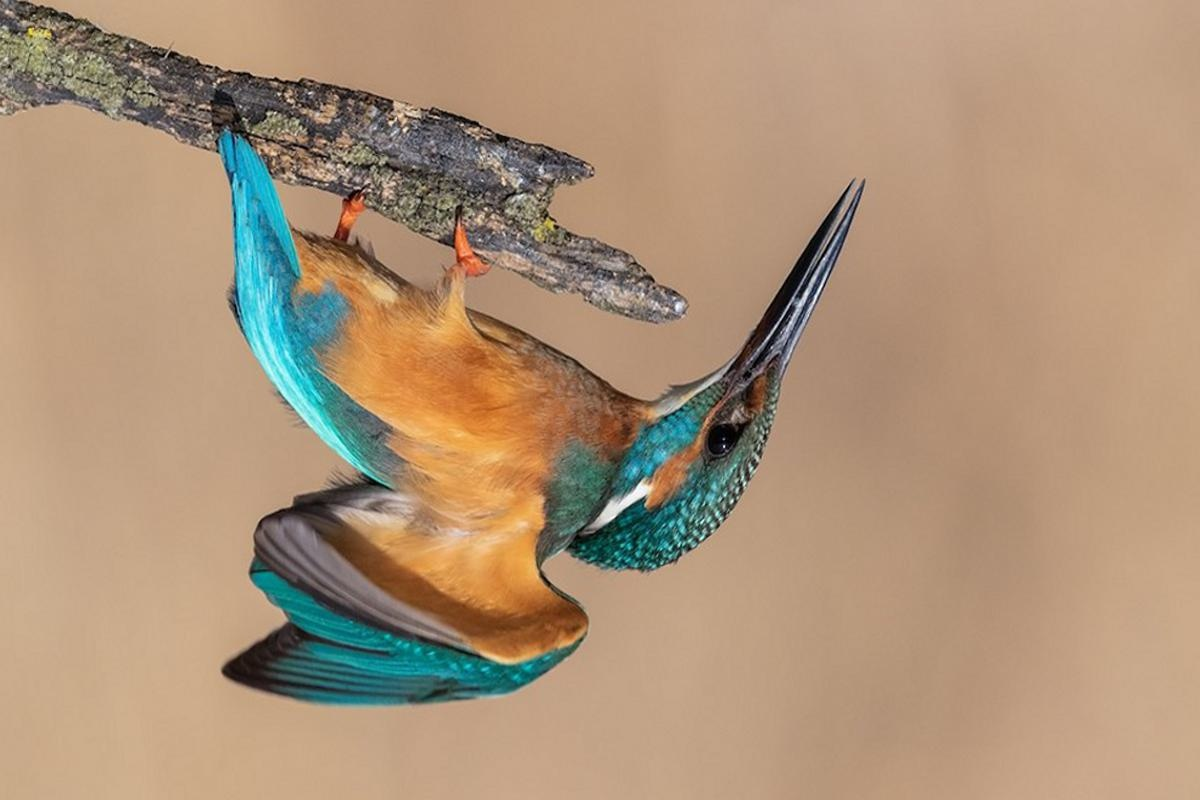kingfisher: (209, 103, 872, 717)
